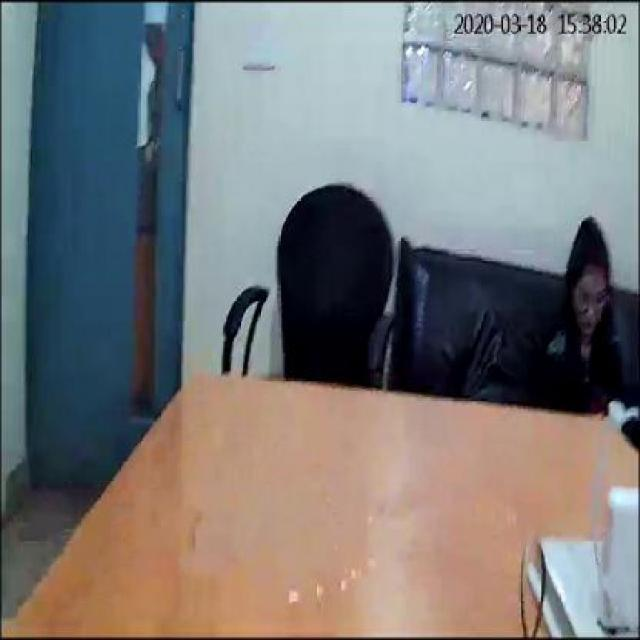spill: (250, 496, 392, 610)
